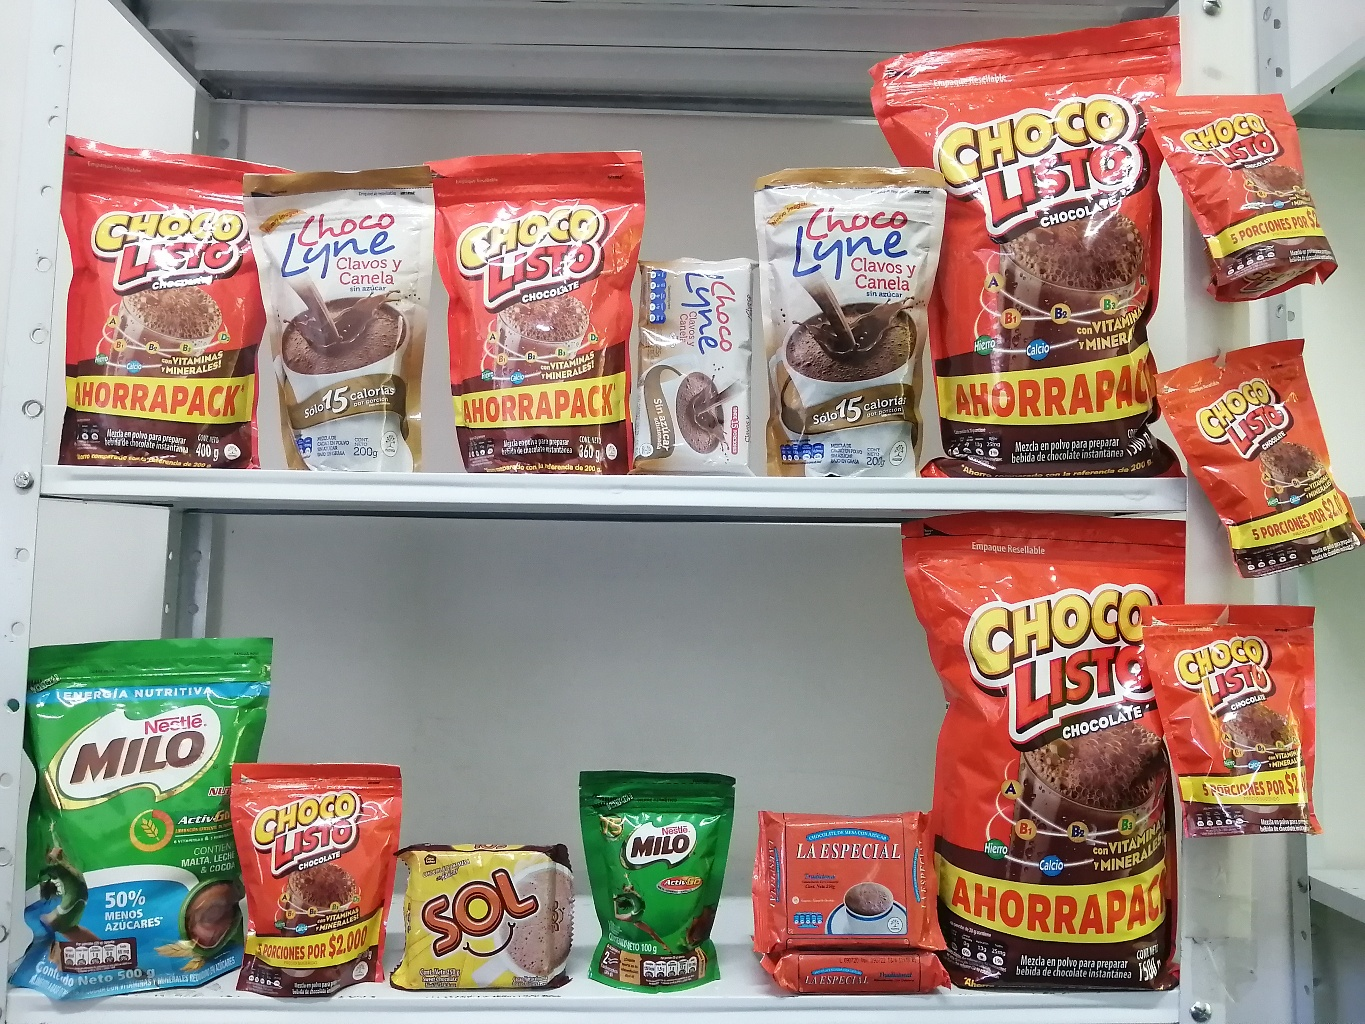COL0170103DYP1,500: (877, 501, 1238, 1015)
COL0170103DYP10000: (1123, 583, 1334, 862)
COL0170103DYP36000: (417, 128, 660, 493)
COL0170103DYP40000: (34, 113, 268, 475)
COL0170203DYP10000: (558, 748, 748, 1007)
COL0170205DYP50000: (15, 610, 307, 989)
